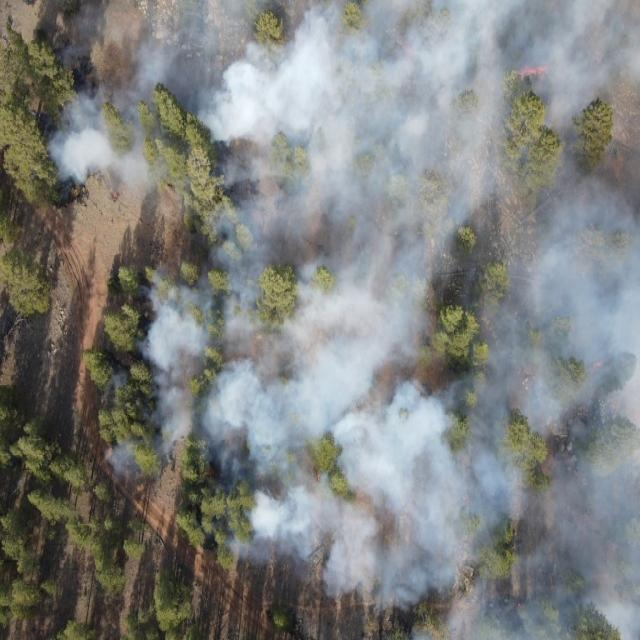fire: (516, 64, 552, 80), (588, 360, 606, 376), (314, 470, 324, 484), (112, 189, 122, 200), (70, 188, 80, 198)
smoke: (46, 0, 640, 202), (414, 202, 640, 640), (187, 202, 416, 608), (137, 264, 185, 478), (102, 442, 138, 478), (102, 370, 130, 396)
